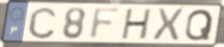8: (61, 6, 87, 41)
C: (26, 5, 59, 40)
F: (87, 7, 124, 42)
H: (119, 7, 154, 41)
Q: (183, 8, 215, 42)
X: (151, 7, 186, 42)
